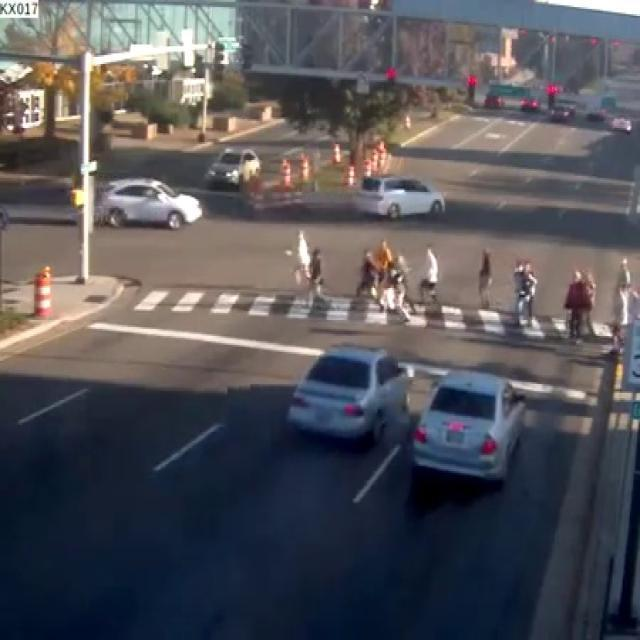car: (410, 371, 522, 480), (286, 345, 406, 439), (94, 178, 200, 227), (354, 175, 443, 216), (203, 146, 249, 184)
red_light: (543, 81, 558, 107), (464, 71, 476, 103), (383, 64, 396, 82)
stop_line: (88, 320, 322, 355), (508, 378, 588, 400), (398, 360, 447, 376)
